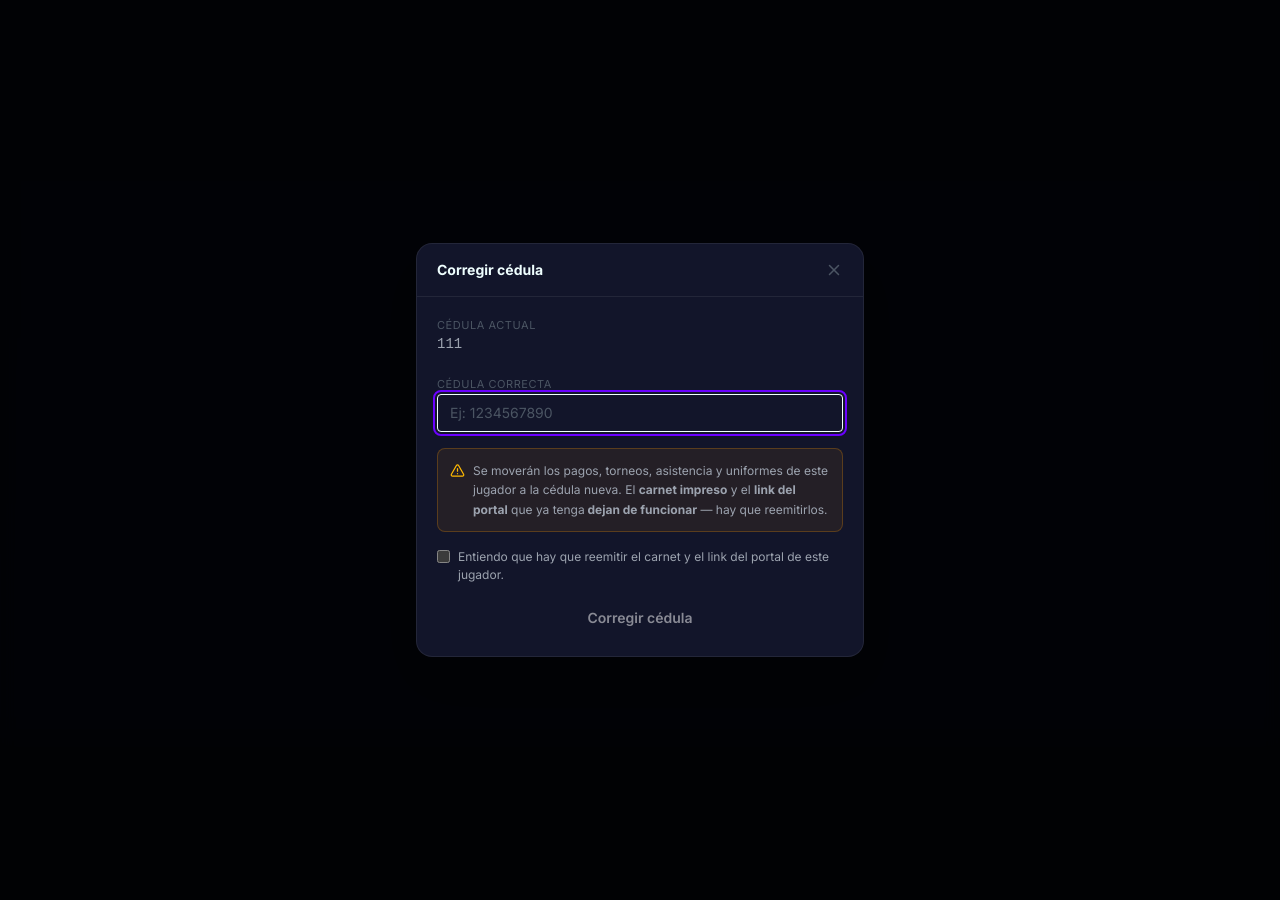
it: CorregirCedulaModal › el botón está deshabilitado hasta llenar la cédula y marcar el checkbox
Expected: the button "Corregir cédula" is disabled, [437,600,843,636]
In the field with placeholder "Ej: 1234567890": (640, 412) [437,394,843,432], type "222"
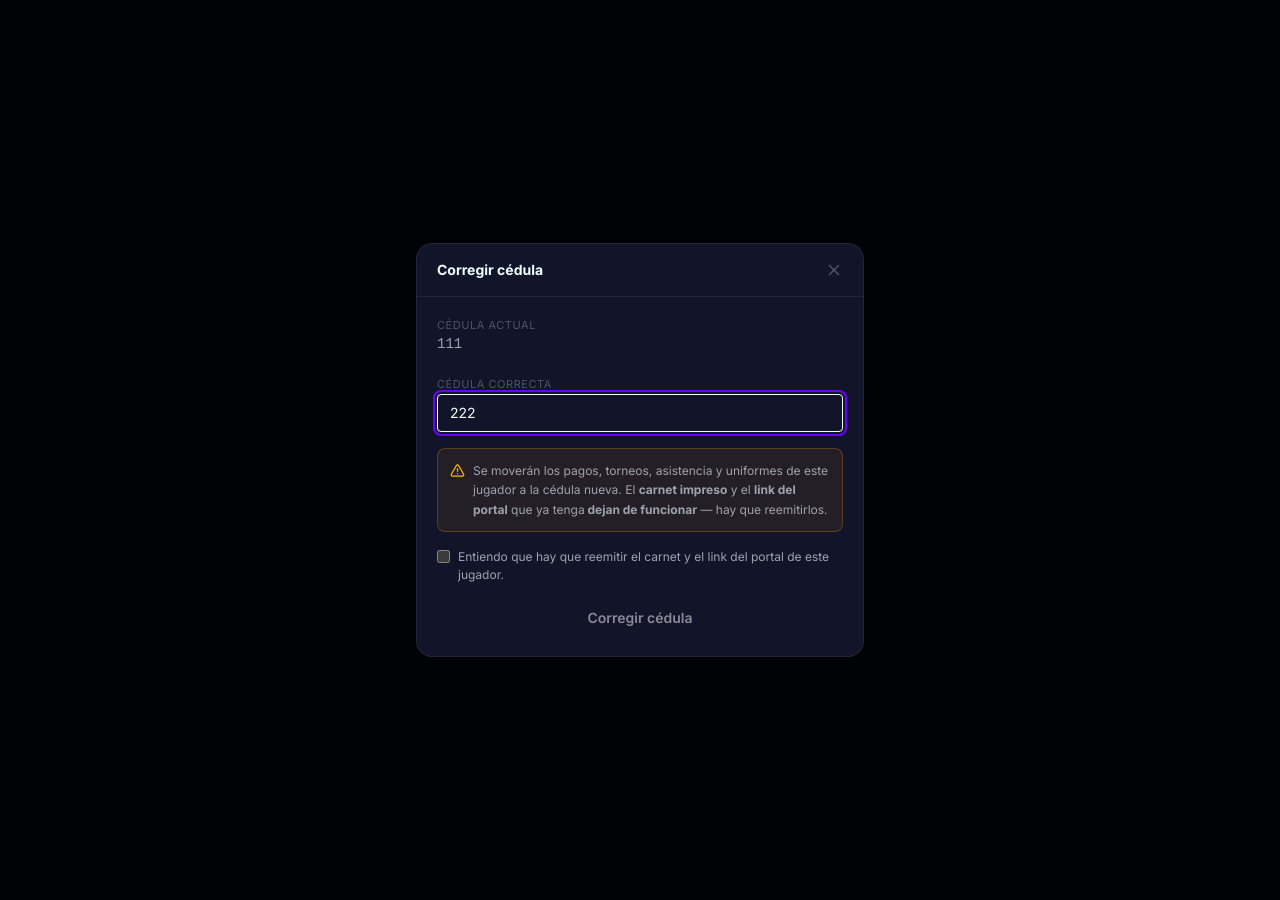
Expected: the button "Corregir cédula" is disabled, [437,600,843,636]
Click the checkbox: (444, 556) [437,550,450,563]
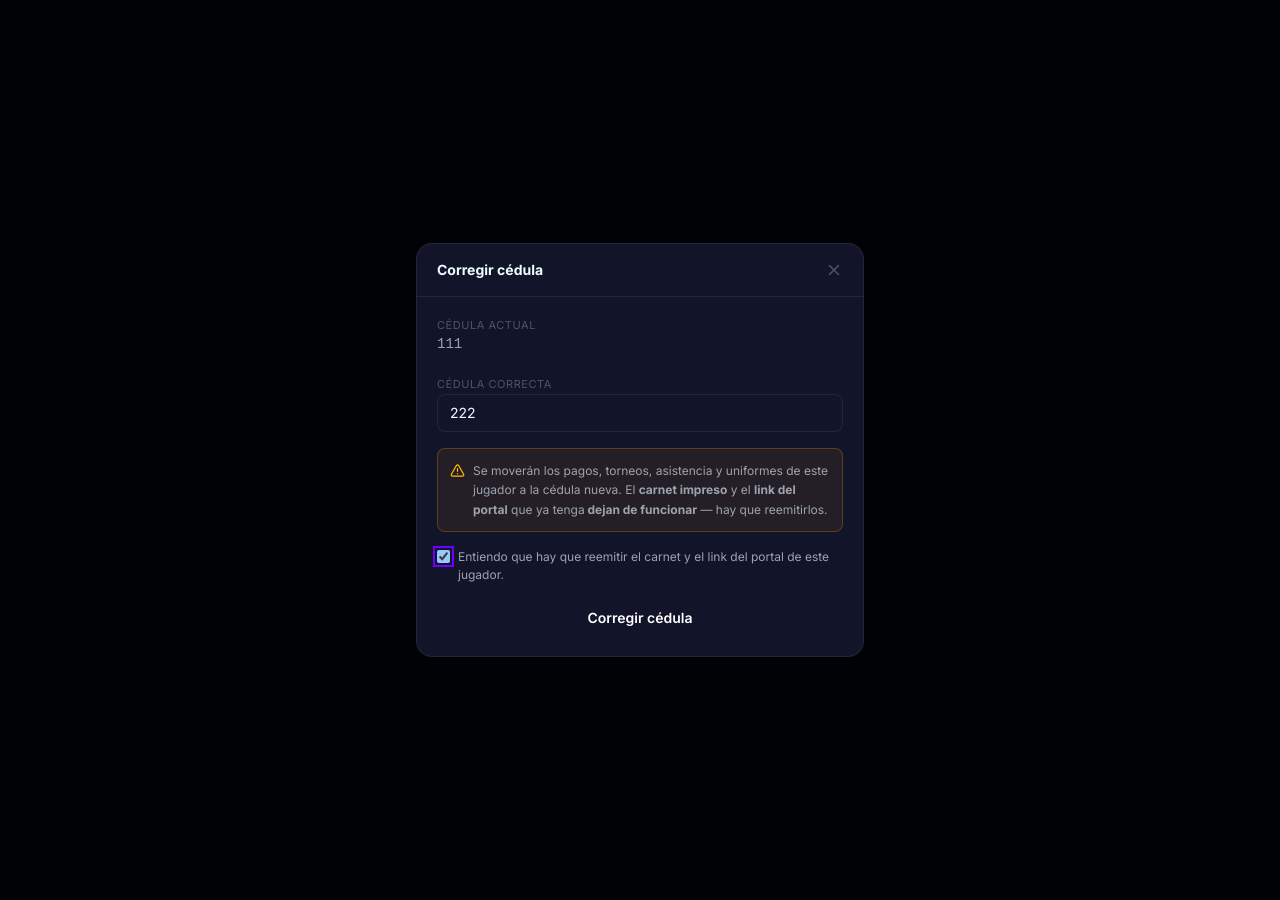
Result: the button "Corregir cédula" is enabled at [437,600,843,636]
